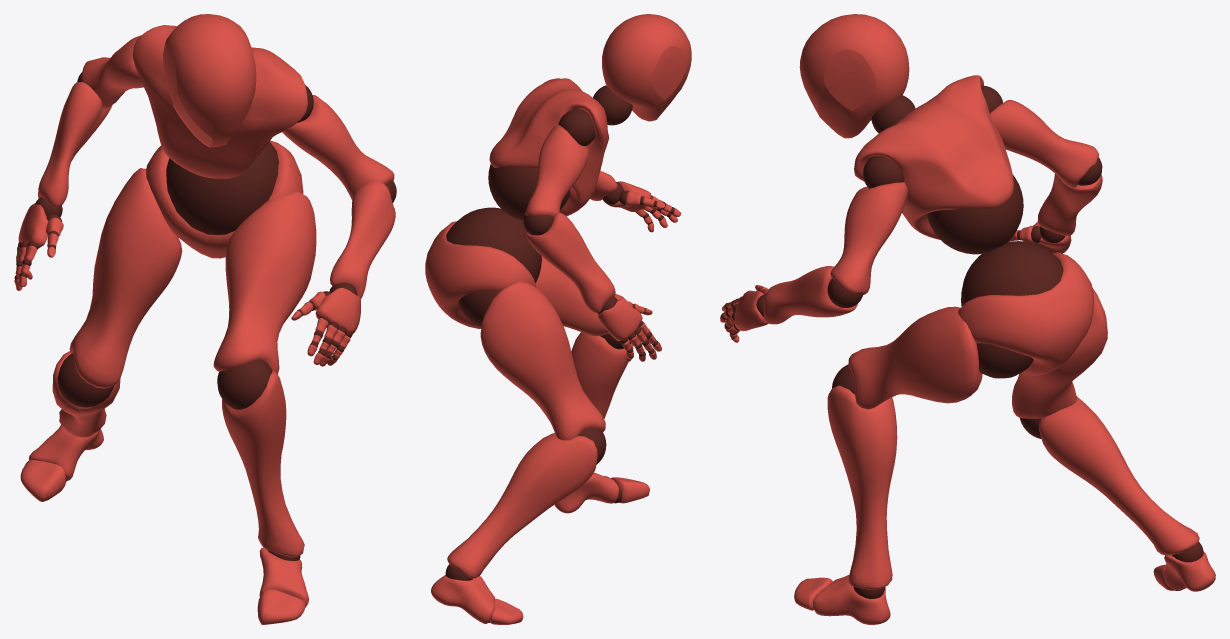
3 views of the same model, side by side, from view 1: azimuth 30°, elevation 25°; view 2: azimuth 150°, elevation 25°; view 3: azimuth 270°, elevation 25° (orthographic). The views are drawn at different scales.
Visible parts, largest first — view 1: Beta_Surface, Beta_Joints; view 2: Beta_Surface, Beta_Joints; view 3: Beta_Surface, Beta_Joints.
Part boxes in pixels (bbox=[...]): Beta_Surface: bbox=[14, 14, 395, 624]; Beta_Joints: bbox=[14, 72, 396, 560]; Beta_Surface: bbox=[425, 14, 691, 624]; Beta_Joints: bbox=[445, 85, 674, 622]; Beta_Surface: bbox=[720, 14, 1215, 624]; Beta_Joints: bbox=[721, 85, 1203, 598].
Bounding box in the file's own units: 0.6919 × 1.39 × 1.1.
